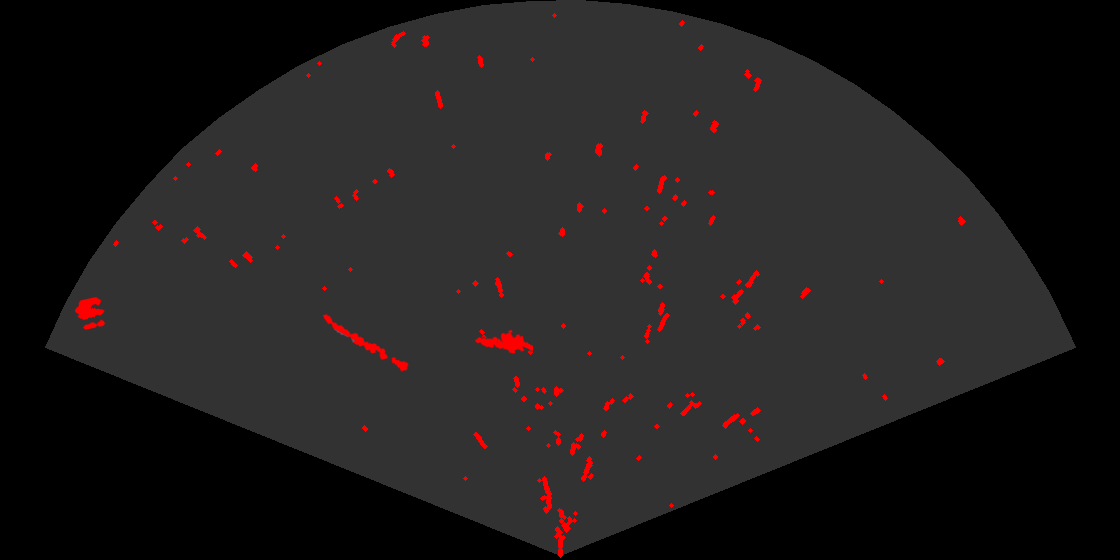ball: (73, 295, 107, 331)
chain: (321, 313, 410, 373)
frogman: (473, 328, 533, 356)
